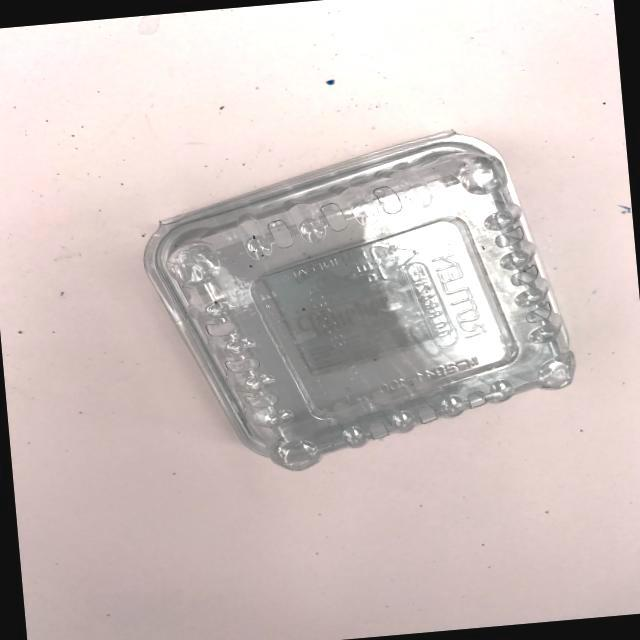plastic: (125, 118, 593, 492)
